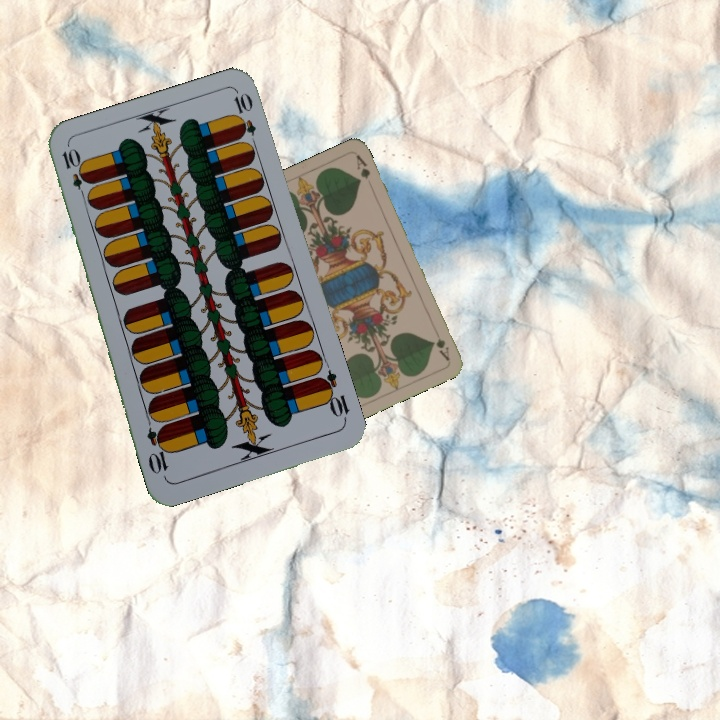E10: (314, 367, 352, 424), (58, 144, 91, 203)
GA: (432, 334, 452, 363)
